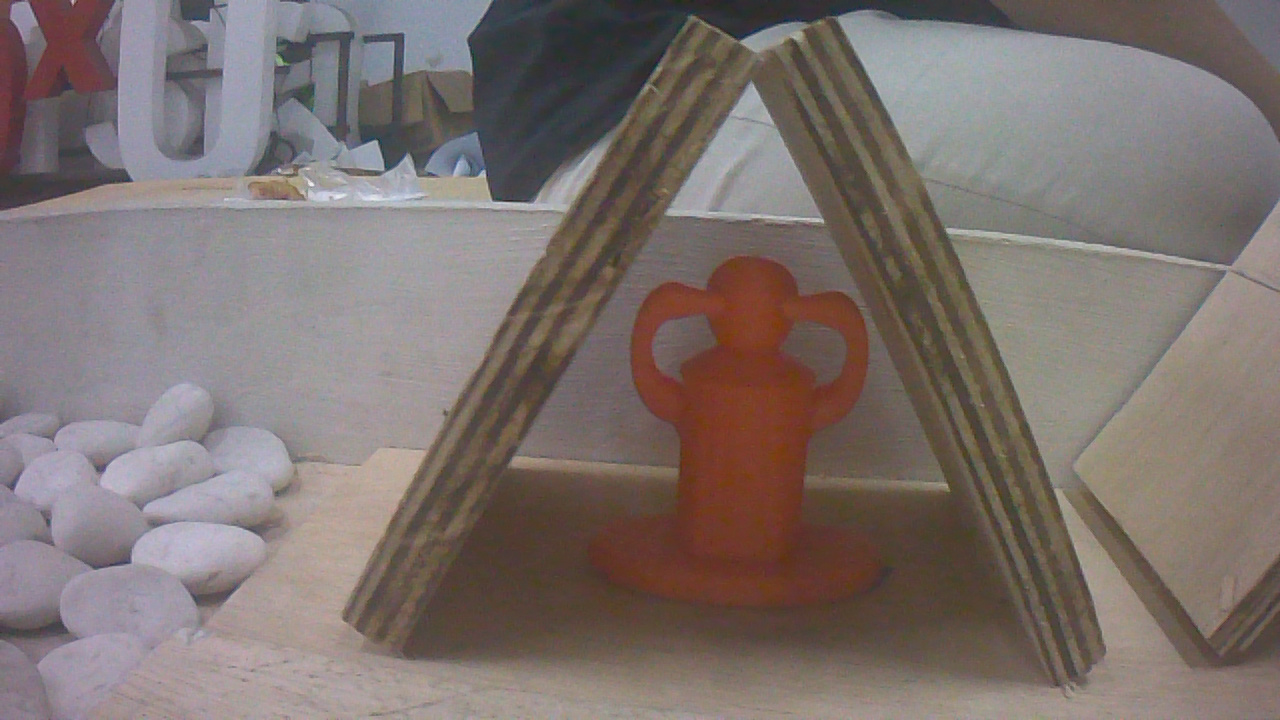real: (606, 256, 885, 610)
